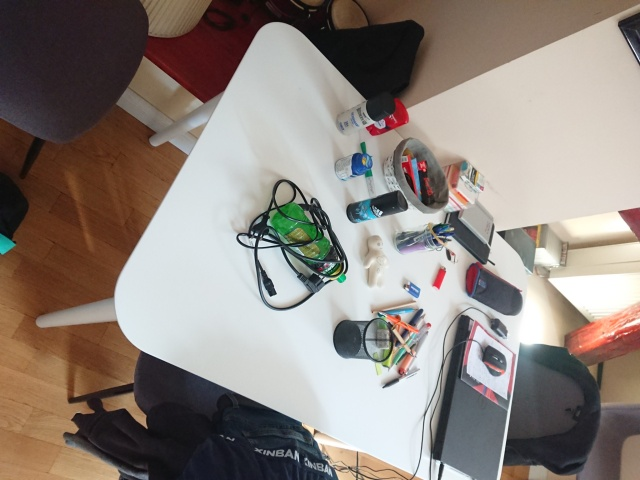Vindi Iso Sport Lemon-Grapefruit 500mL: (267, 200, 349, 285)
